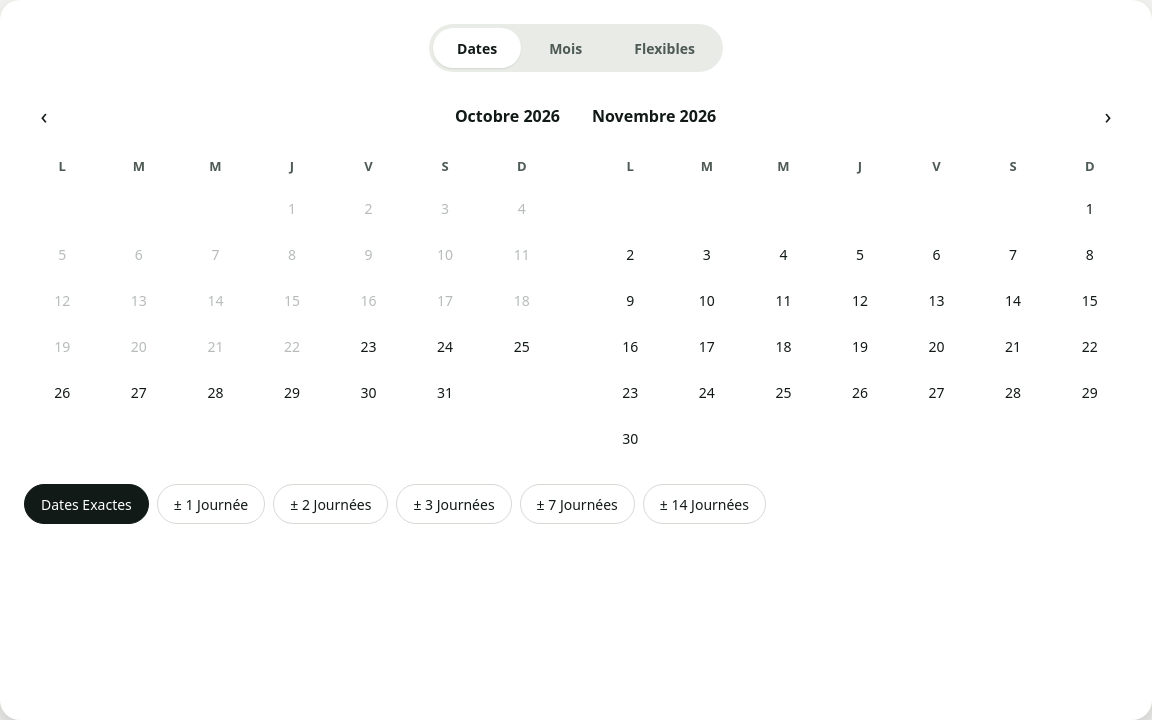
Test case: DatePickerPanel « Flexibles » mode › offers weekend / week / month durations, weekend selected by default
Click the button "Flexibles" at (665,48), box top-left (610, 28), bottom-right (719, 68)
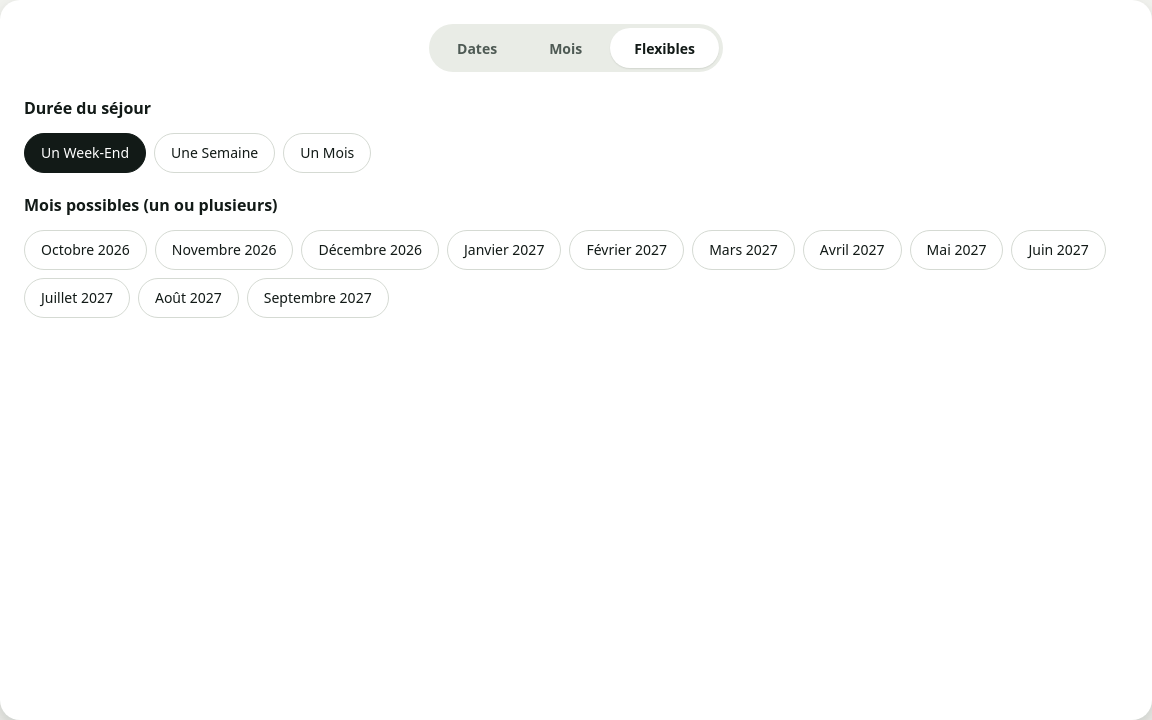
expect the button "Une semaine" is shown: met, box top-left (154, 133), bottom-right (275, 173)
expect the button "Un mois" is shown: met, box top-left (283, 133), bottom-right (371, 173)
